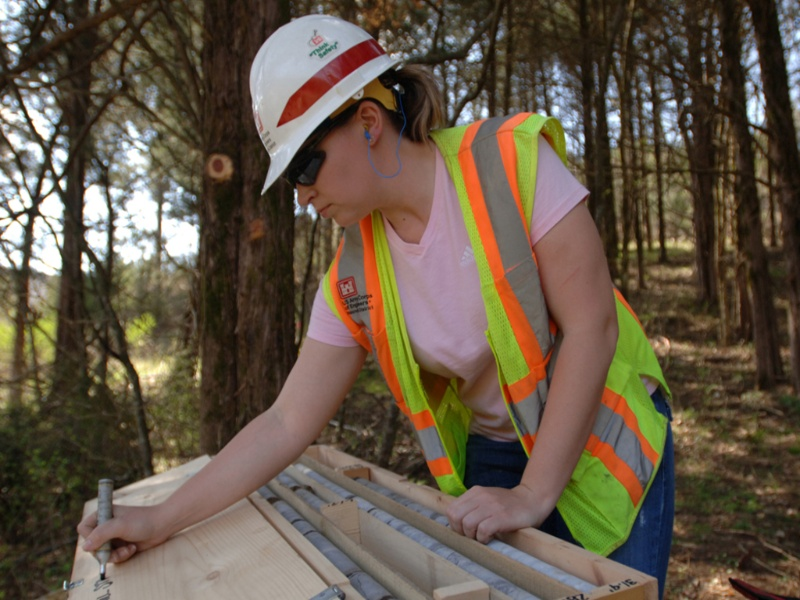Baret: (249, 15, 397, 133)
